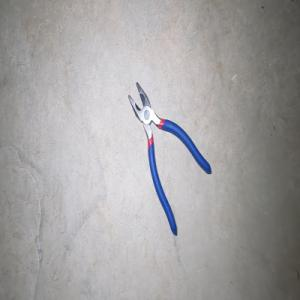Pliers: (127, 81, 211, 236)
